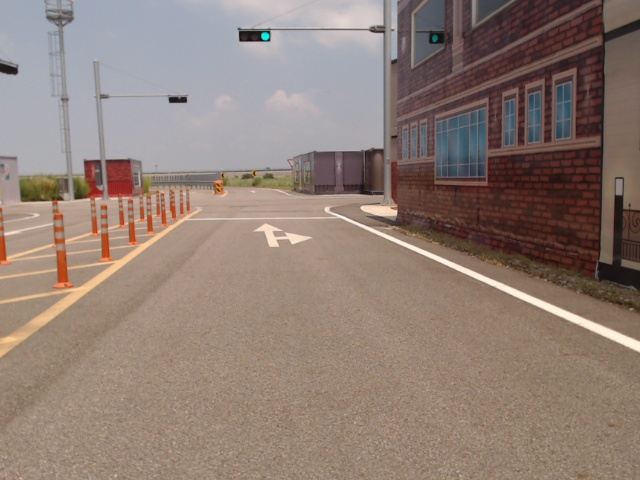green_3: (239, 31, 271, 42)
